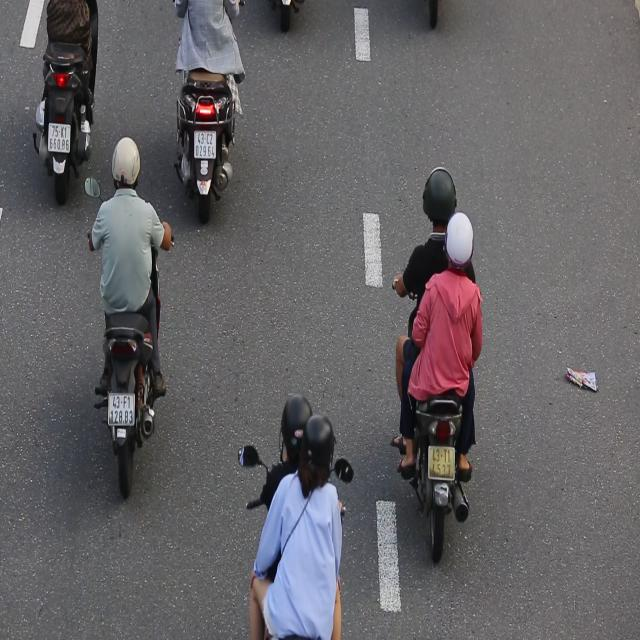motorbike: (388, 178, 490, 568), (85, 136, 178, 508)
